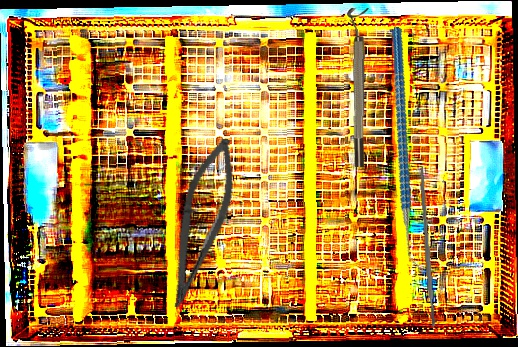Chopper: (331, 26, 486, 275)
Fixation Ring: (344, 7, 370, 168)
Micro Scissor: (160, 133, 245, 314)
Scalpel Handle: (417, 165, 437, 330)
